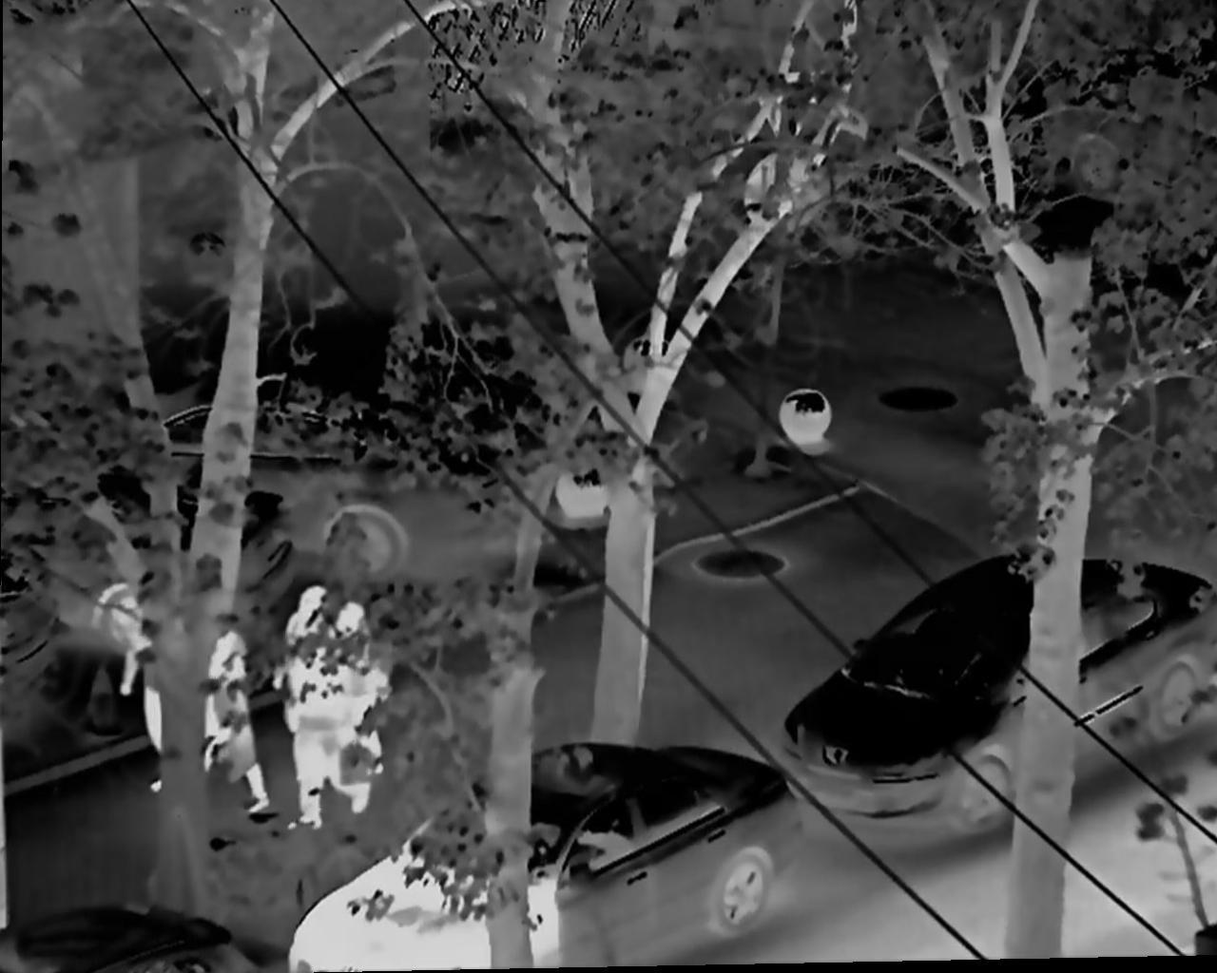person: (184, 633, 267, 819), (285, 581, 339, 830), (326, 597, 384, 812), (124, 601, 176, 814)
